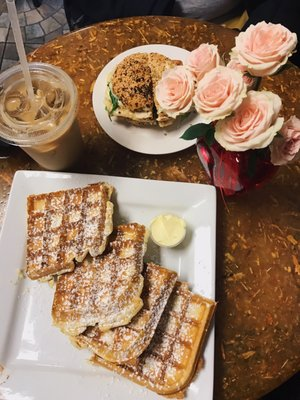pizza: (0, 63, 83, 172)
soup: (50, 252, 216, 396), (25, 182, 115, 280)
sushi: (0, 63, 79, 154)
